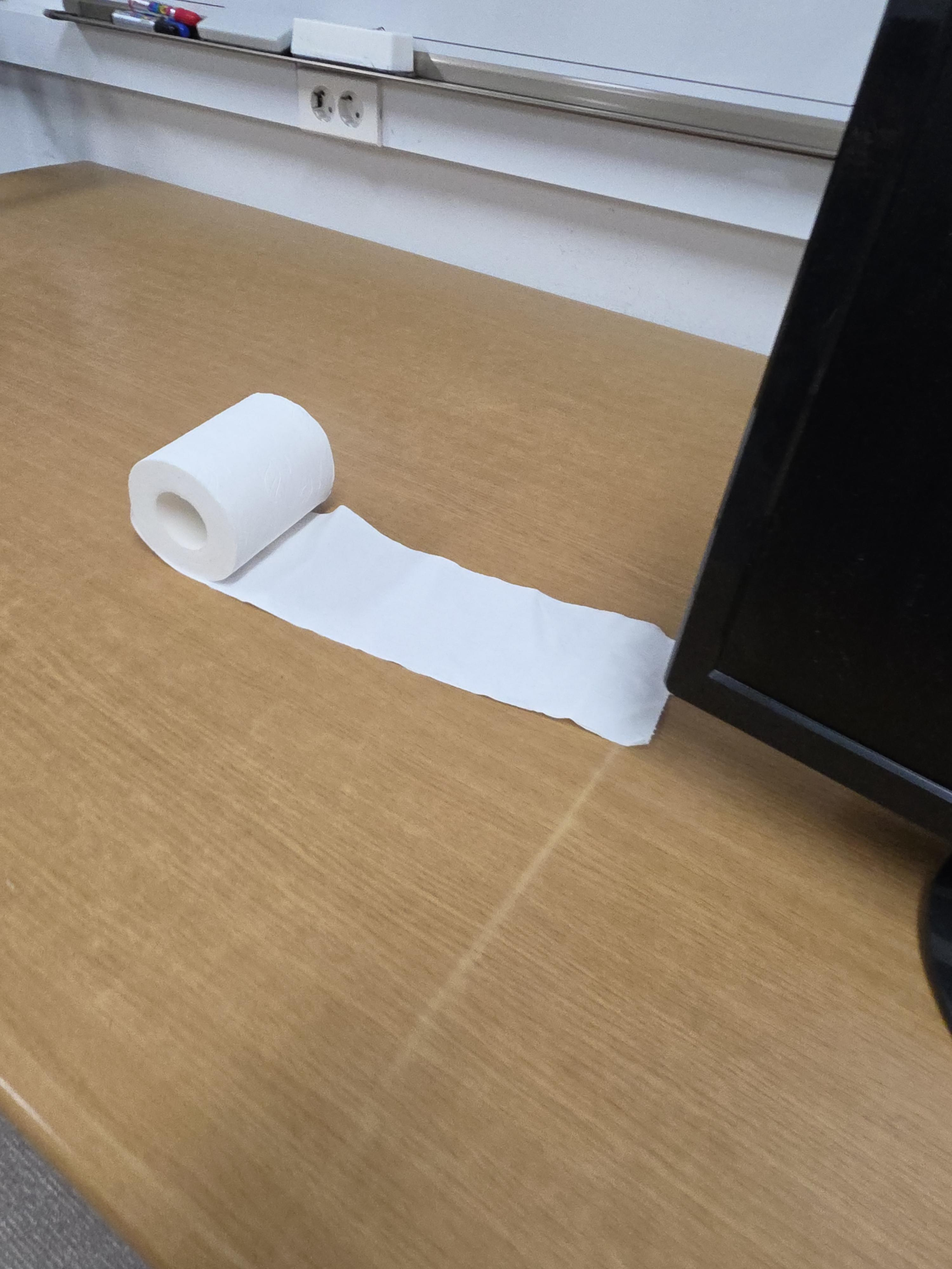tissue: (127, 391, 676, 748)
